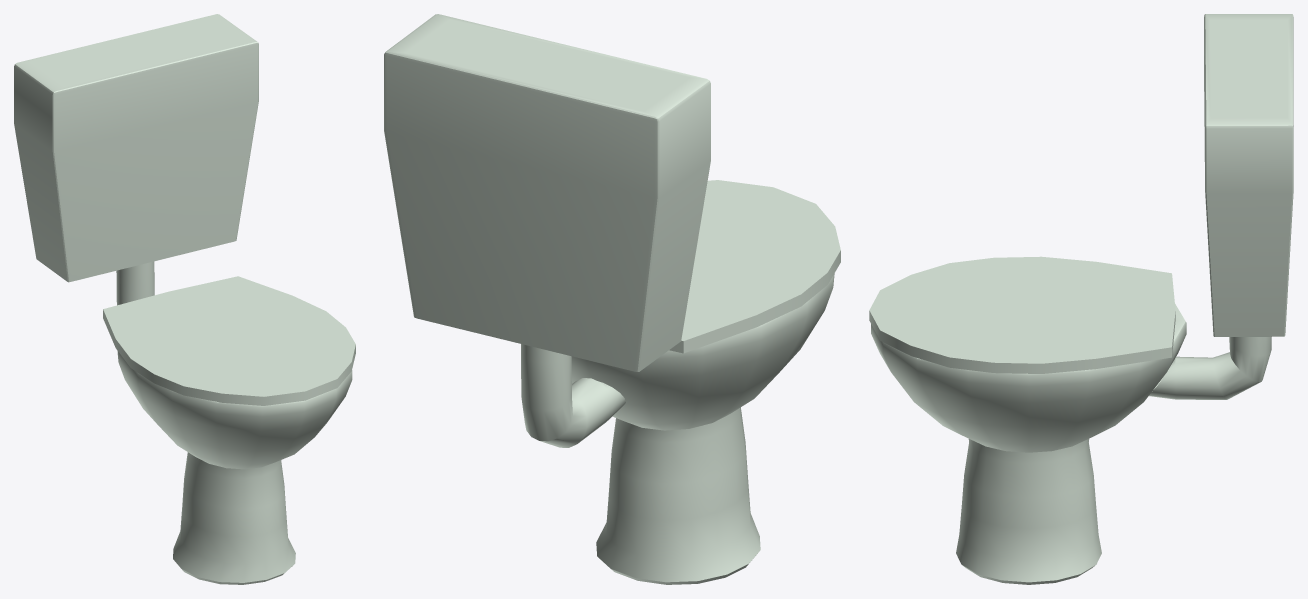
File: Klozet.fbx
3 views of the same model, side by side, from view 1: azimuth 30°, elevation 25°; view 2: azimuth 150°, elevation 25°; view 3: azimuth 270°, elevation 25° (orthographic). The views are drawn at different scales.
Visible parts, largest first — view 1: Klozet; view 2: Klozet; view 3: Klozet.
Boxes of the visible parts, left/top/right/bottom form: Klozet: left=14, top=14, right=355, bottom=584; Klozet: left=384, top=14, right=840, bottom=584; Klozet: left=869, top=14, right=1293, bottom=584.
Bounding box in the file's own units: 116 × 233 × 184.
